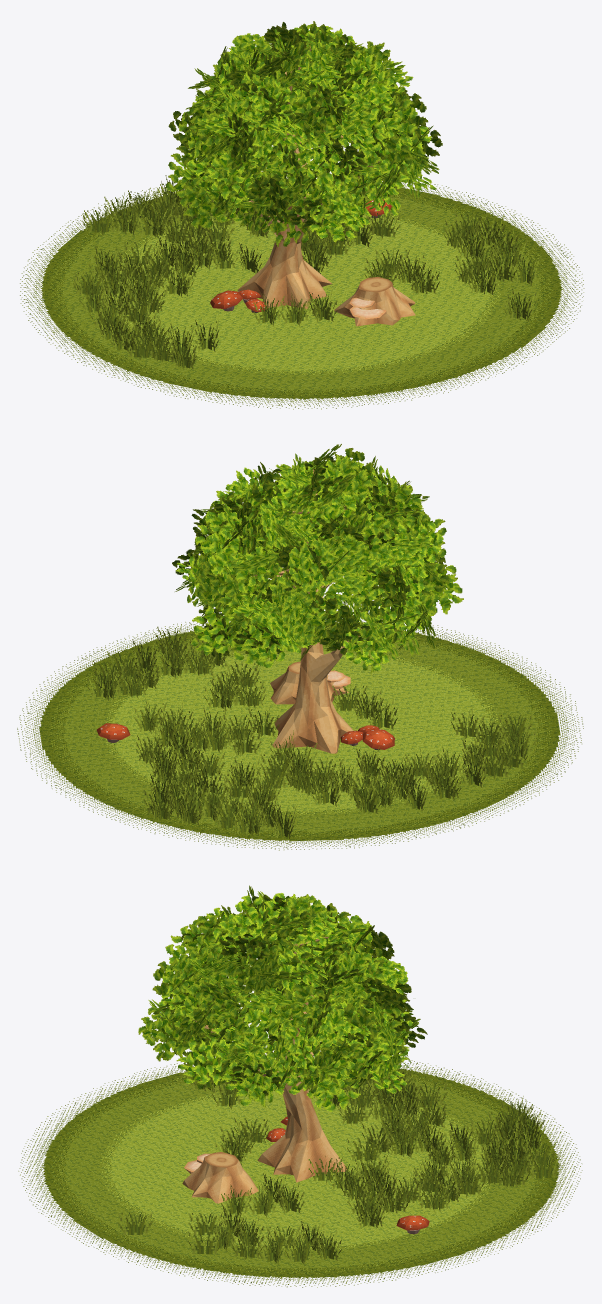
The model's file is low_poly_tree_main.glb.
3 views of the same model, one above another, from view 1: azimuth 30°, elevation 25°; view 2: azimuth 150°, elevation 25°; view 3: azimuth 270°, elevation 25° (orthographic).
Visible parts, largest first — view 1: Base, Plane.1065, Plane.336, Trunk, Stump; view 2: Base, Plane.1065, Plane.336, Trunk, Stump, Mushroom.001; view 3: Base, Plane.1065, Plane.336, Trunk, Stump.
Boxes of the visible parts, x1=… form: Base: x1=20, y1=173, x2=584, y2=409; Plane.1065: x1=165, y1=21, x2=442, y2=246; Plane.336: x1=73, y1=175, x2=541, y2=370; Trunk: x1=237, y1=46, x2=379, y2=309; Stump: x1=334, y1=276, x2=415, y2=326; Base: x1=17, y1=619, x2=583, y2=850; Plane.1065: x1=172, y1=444, x2=463, y2=673; Plane.336: x1=87, y1=624, x2=536, y2=838; Trunk: x1=252, y1=469, x2=382, y2=753; Stump: x1=270, y1=661, x2=348, y2=704; Mushroom.001: x1=362, y1=728, x2=394, y2=749; Base: x1=18, y1=1056, x2=582, y2=1287; Plane.1065: x1=138, y1=885, x2=427, y2=1111; Plane.336: x1=118, y1=1053, x2=560, y2=1265; Trunk: x1=193, y1=916, x2=346, y2=1182; Stump: x1=182, y1=1152, x2=258, y2=1203.
Size of the model in its own units: 21.76 by 12.04 by 21.76.
7 materials, 7 textured.
